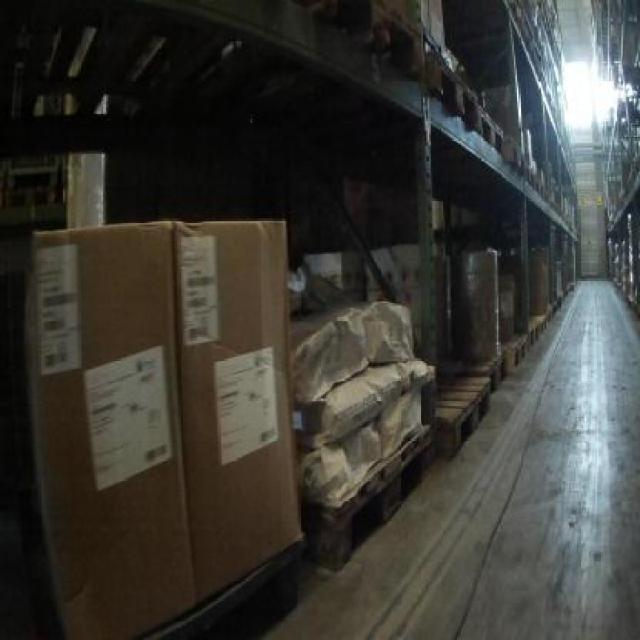ground: (252, 272, 638, 638)
pallet: (300, 420, 443, 581), (150, 532, 310, 640), (283, 0, 431, 83), (422, 56, 507, 158), (465, 300, 561, 388), (431, 374, 493, 455), (502, 133, 538, 186)
